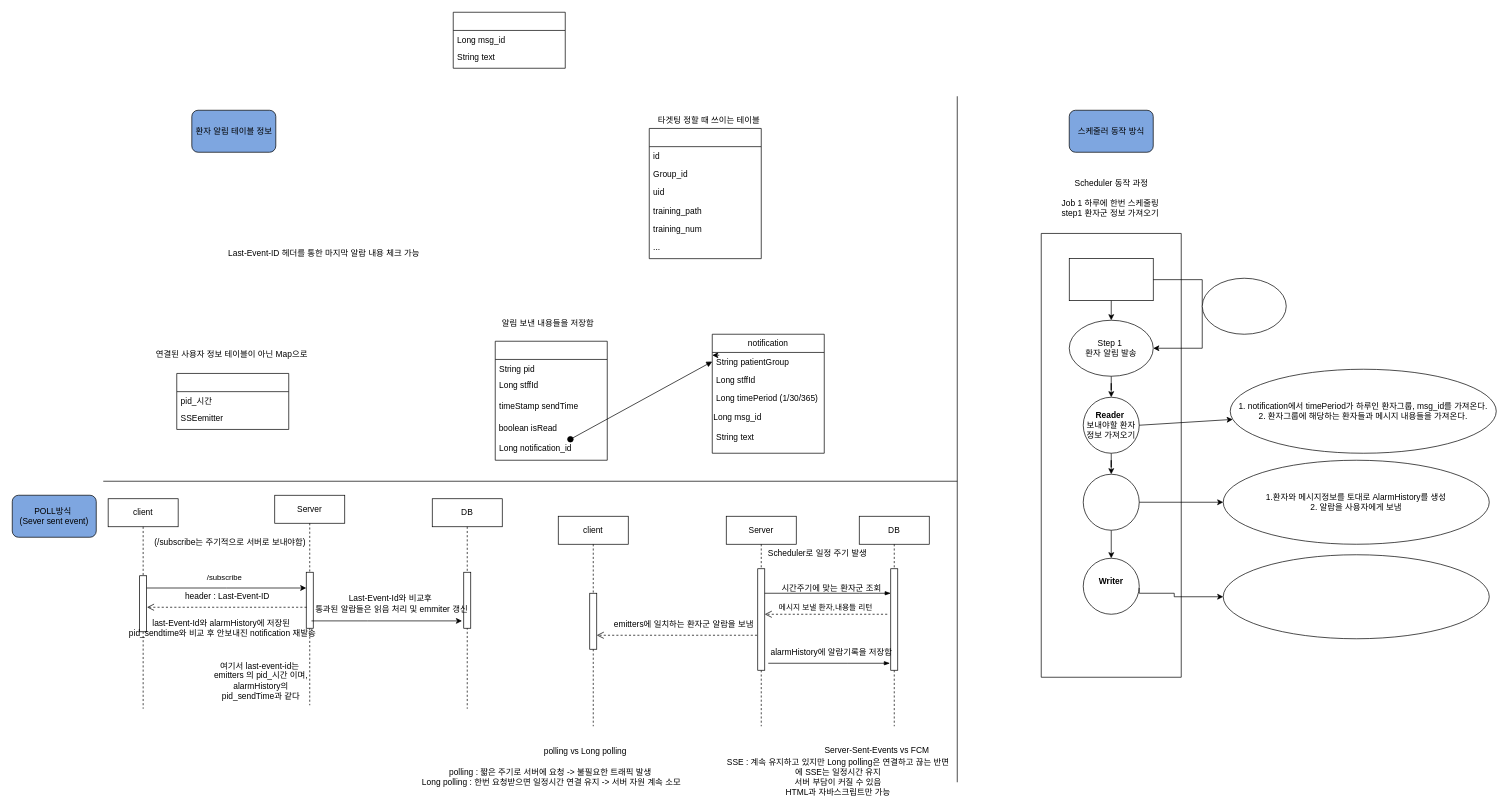
This 1509x810 diagram has some shape labels left out. Each missing label, with the box of its shape:
alarmHistory: (495, 341, 607, 460)
emitters: (176, 373, 289, 429)
JOB1: (1069, 258, 1153, 301)
JobParameter timePeriod 값 넘겨준걸로 스케줄: (1202, 278, 1286, 334)
notificatoin_message: (453, 12, 565, 68)
Proccessor: (1083, 474, 1139, 530)
tb_trn_prg: (649, 128, 761, 259)
알람 히스토리를 저장함: (1223, 554, 1489, 639)
